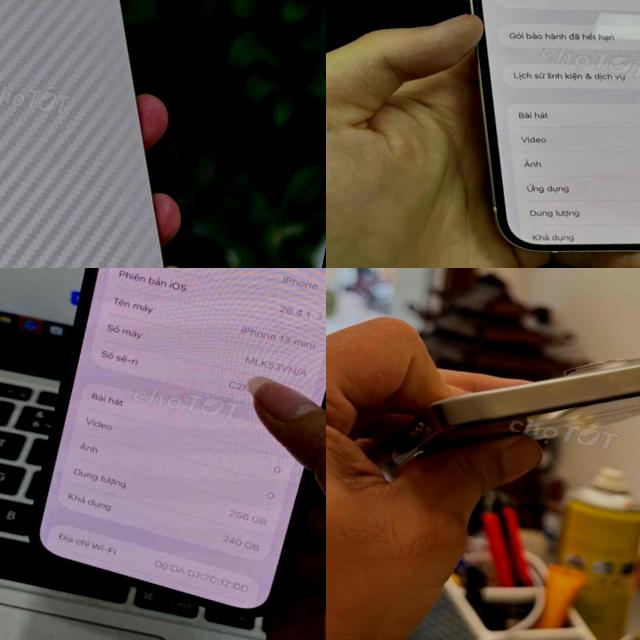gen_12_13: (25, 268, 326, 630)
gen_14: (378, 0, 640, 268)
gen_15: (364, 268, 640, 531)
gen_16: (0, 0, 163, 268)
